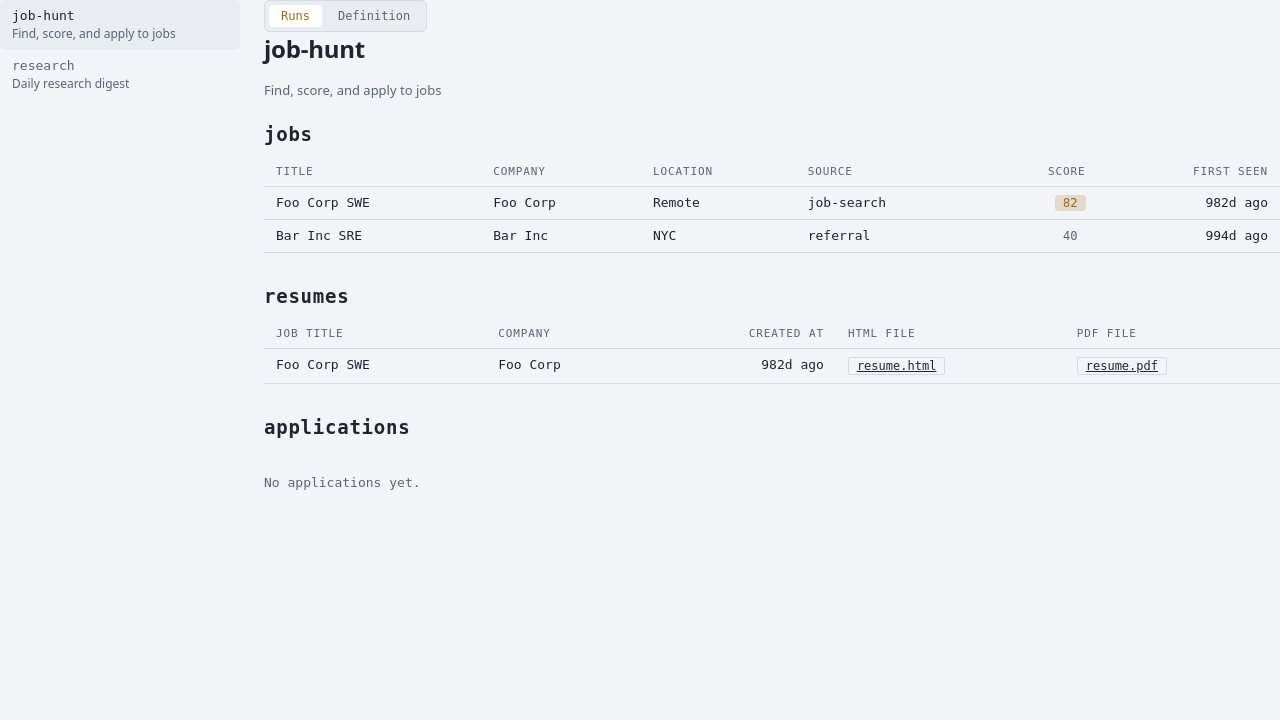
Scenario: artifacts table renders and clicking a row opens artifact detail naming its parent item
What coordinates should you click on to do the following:
click the row "Foo Corp SWE Foo Corp 982d ago resume.html resume.pdf"
I would click on:
 (772, 366)
Its box is [264,348,1279,384].
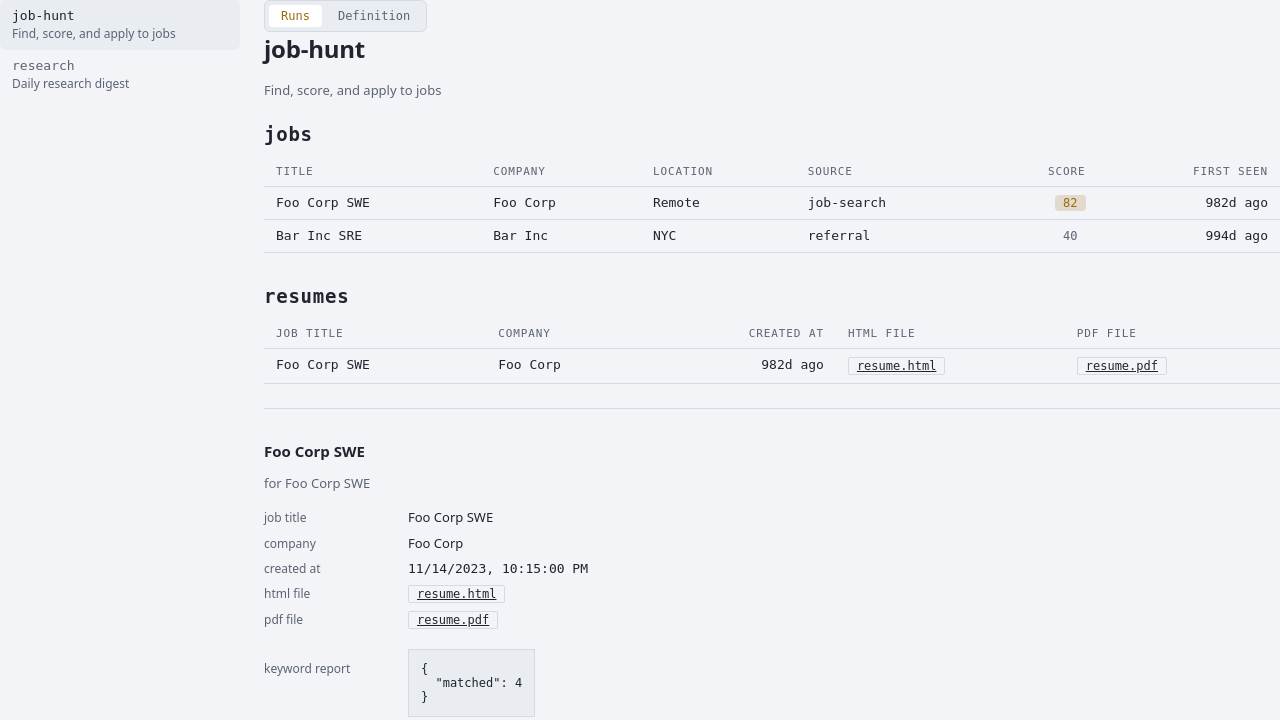
Now the heading "Foo Corp SWE" is shown, box [264,441,365,461]
Now the text "for Foo Corp SWE" is shown, box [264,474,370,492]
